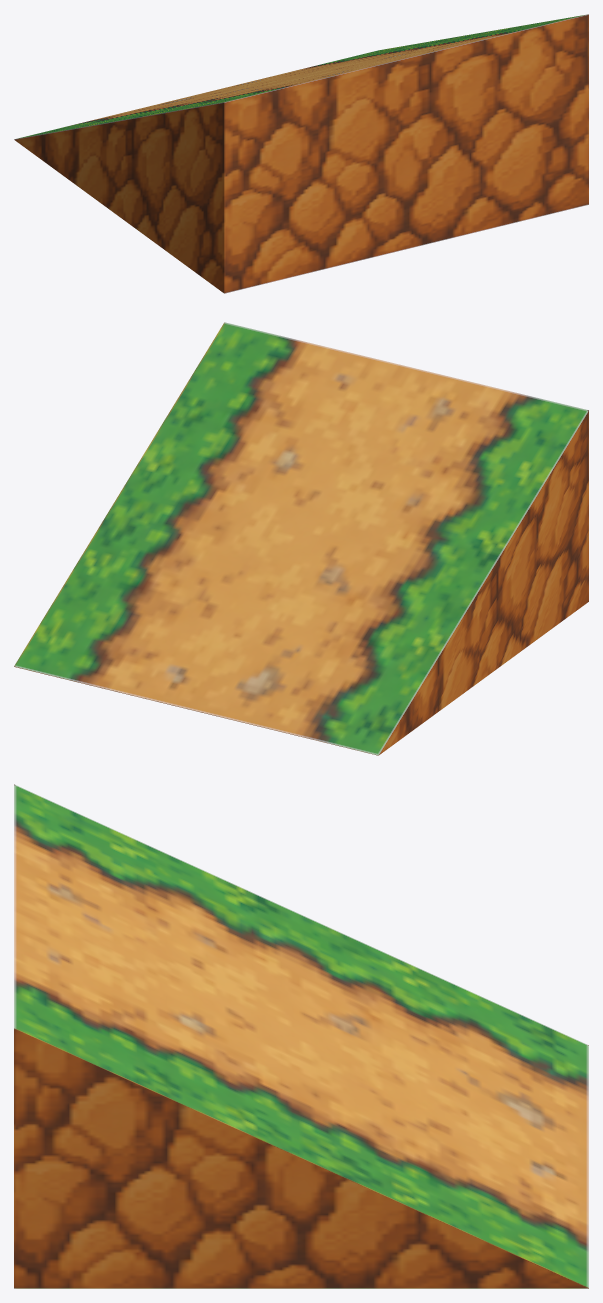
Rendered from Slope.fbx.
3 views of the same model, one above another, from view 1: azimuth 30°, elevation 25°; view 2: azimuth 150°, elevation 25°; view 3: azimuth 270°, elevation 25° (orthographic). The views are drawn at different scales.
Visible parts, largest first — view 1: Cube; view 2: Cube; view 3: Cube.
Boxes of the visible parts, x1,y1,x2,y2 form: Cube: (14, 14, 588, 293); Cube: (14, 322, 588, 755); Cube: (14, 784, 588, 1288).
Bounding box in the file's own units: 200 × 100 × 200.
1 material, 1 textured.
